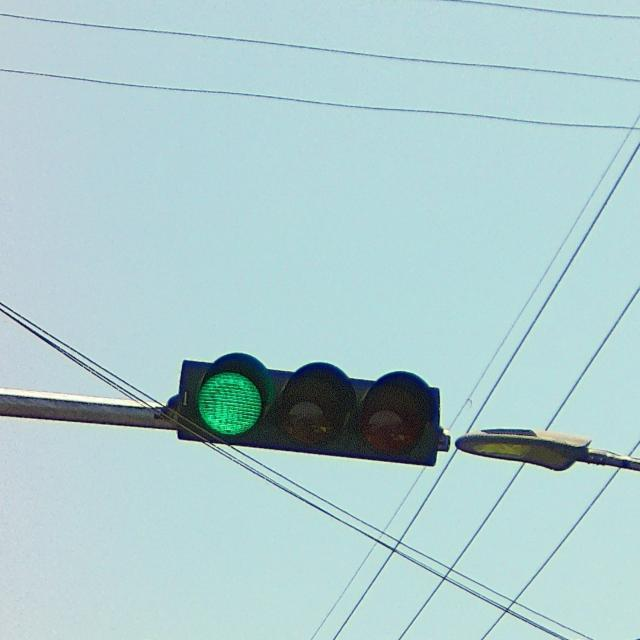green light: (177, 356, 444, 469)
